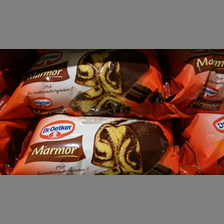cake: (3, 52, 172, 113), (11, 116, 182, 174)
